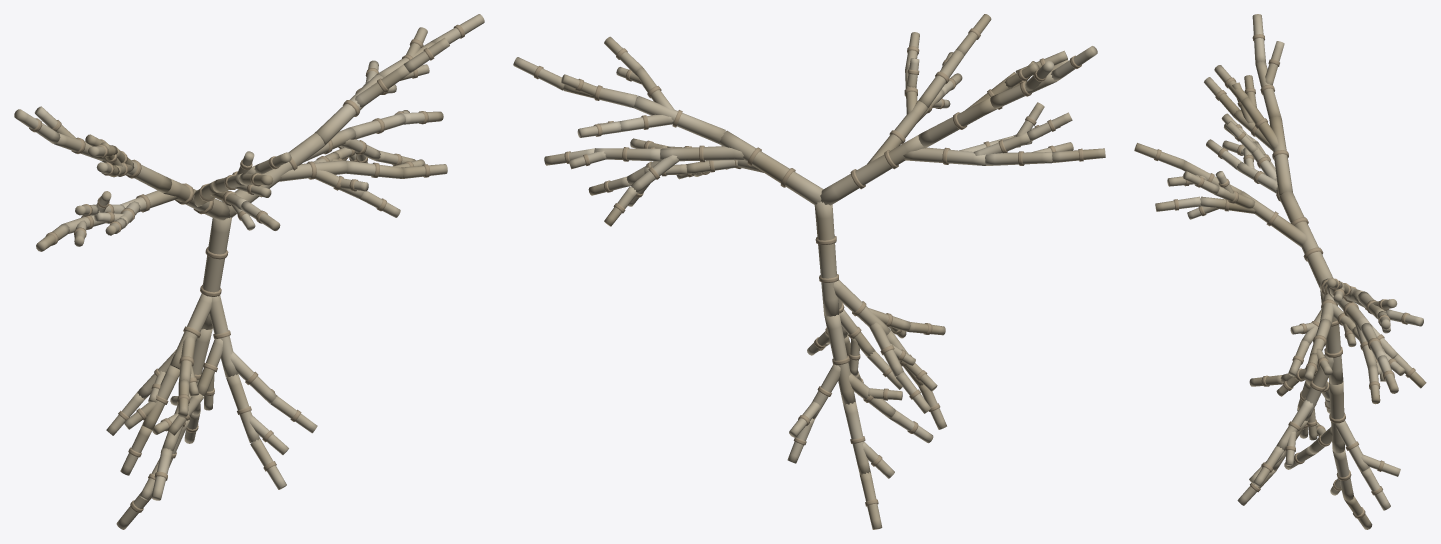
The model's file is fusarium-venenatum.glb.
3 renders of one model, left to right at view 1: azimuth 30°, elevation 25°; view 2: azimuth 150°, elevation 25°; view 3: azimuth 270°, elevation 25°, orthographic. The views are drawn at different scales.
Parts seen in each view (by area): view 1: hyphal_filaments, septa_cross_walls; view 2: hyphal_filaments, septa_cross_walls; view 3: hyphal_filaments, septa_cross_walls.
Part boxes in pixels (x1,y1,x2,y2): hyphal_filaments: (14, 14, 484, 529); septa_cross_walls: (29, 24, 465, 512); hyphal_filaments: (513, 14, 1105, 529); septa_cross_walls: (534, 28, 1083, 506); hyphal_filaments: (1134, 14, 1426, 529); septa_cross_walls: (1154, 34, 1415, 518).
Bounding box in the file's own units: 5.16 × 4.61 × 2.75.
